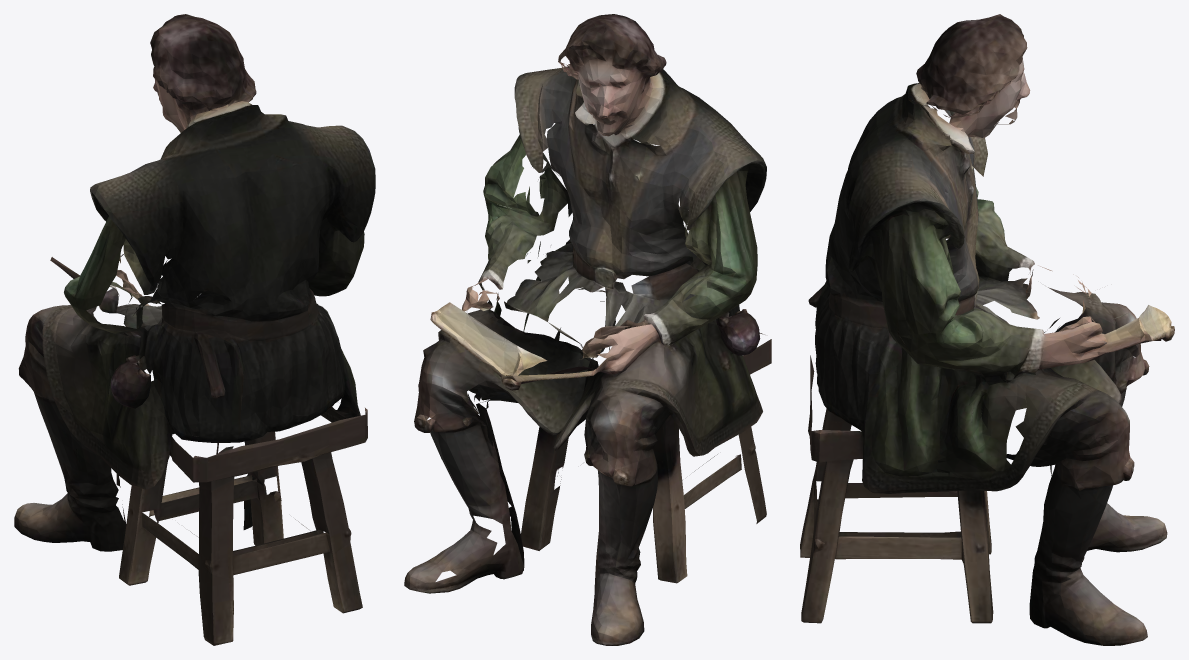
File: council_treasurer.glb
3 renders of one model, left to right at view 1: azimuth 30°, elevation 25°; view 2: azimuth 150°, elevation 25°; view 3: azimuth 270°, elevation 25°, orthographic. The views are drawn at different scales.
Visible parts, largest first — view 1: geometry_0; view 2: geometry_0; view 3: geometry_0.
Part boxes in pixels (x1,y1,x2,y2): geometry_0: [14, 14, 375, 645]; geometry_0: [404, 14, 771, 645]; geometry_0: [800, 14, 1174, 645].
Size of the model in its own units: 0.6867 by 1.3 by 0.7845.
Materials: 1 (1 with a texture image).
